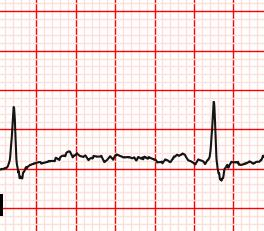ST Depression: (204, 156, 232, 183)
